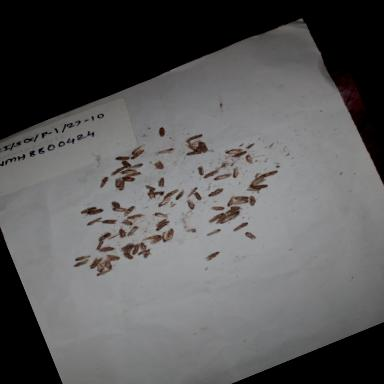pbw: (226, 144, 254, 160), (121, 222, 145, 240), (178, 184, 202, 201), (257, 165, 282, 181), (75, 201, 100, 217), (154, 192, 176, 210), (142, 228, 166, 244), (124, 206, 148, 222), (210, 169, 234, 185), (134, 245, 156, 262), (150, 144, 174, 159), (120, 166, 144, 181), (248, 178, 270, 194), (117, 170, 139, 186), (213, 212, 238, 226), (201, 248, 224, 263), (118, 202, 138, 219), (92, 264, 116, 278), (82, 214, 106, 228), (88, 238, 109, 254), (80, 206, 104, 220), (152, 174, 170, 192), (72, 250, 95, 264), (208, 198, 228, 214), (230, 218, 250, 234), (118, 164, 140, 178), (124, 158, 146, 172), (200, 166, 222, 180), (70, 256, 92, 270), (225, 200, 244, 216), (94, 172, 113, 188), (111, 178, 130, 194), (98, 214, 119, 228), (151, 219, 172, 233), (183, 130, 204, 144), (222, 192, 240, 208), (118, 240, 136, 256), (128, 241, 146, 257), (231, 189, 250, 204), (128, 142, 148, 156), (206, 210, 226, 224), (127, 146, 147, 160), (105, 164, 126, 177), (163, 225, 179, 242), (181, 196, 198, 212), (171, 187, 189, 202), (195, 138, 210, 156), (151, 207, 169, 222), (113, 150, 132, 164), (94, 228, 113, 242), (110, 202, 129, 216), (97, 242, 116, 256), (246, 172, 268, 184), (230, 194, 250, 207), (156, 228, 172, 244), (113, 224, 129, 240), (185, 138, 201, 154), (100, 256, 116, 272), (244, 192, 260, 208), (150, 157, 167, 172), (118, 215, 136, 229), (148, 187, 166, 201), (142, 186, 157, 202), (205, 186, 225, 198), (220, 204, 240, 216), (247, 176, 267, 188), (242, 228, 258, 243), (184, 146, 204, 158), (242, 151, 258, 166), (92, 260, 109, 274), (212, 212, 230, 225), (147, 233, 165, 246), (203, 226, 222, 238), (228, 164, 243, 179), (104, 250, 120, 264), (190, 188, 206, 202), (106, 198, 122, 212), (118, 156, 134, 170), (121, 249, 138, 262), (152, 216, 170, 228), (154, 124, 168, 139), (194, 162, 207, 177), (164, 186, 181, 197), (111, 174, 124, 188), (142, 181, 156, 193), (188, 138, 204, 148), (242, 140, 258, 150), (137, 240, 150, 252)
